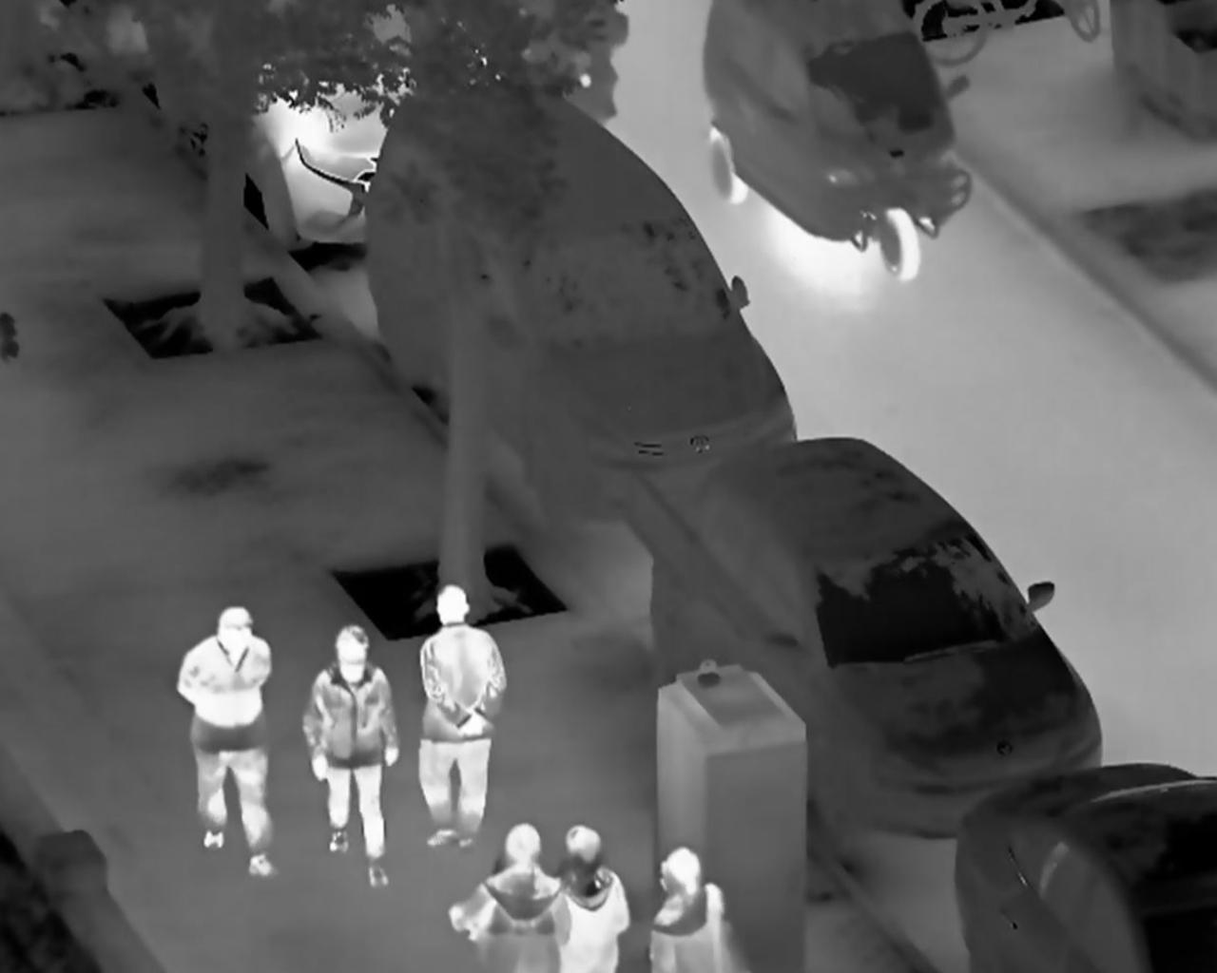person: (175, 601, 281, 882), (300, 623, 397, 892), (417, 584, 510, 849), (445, 821, 570, 973), (644, 843, 744, 973), (549, 823, 634, 973)
